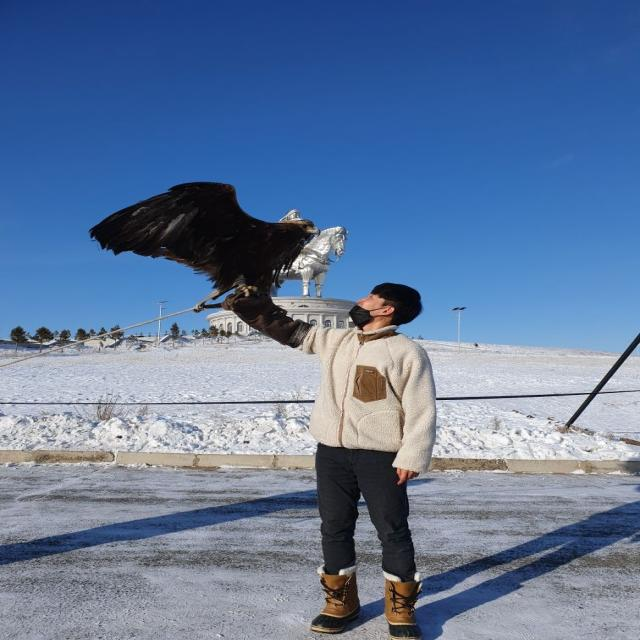denimpants: (316, 439, 417, 585)
jacket: (232, 297, 438, 475)
